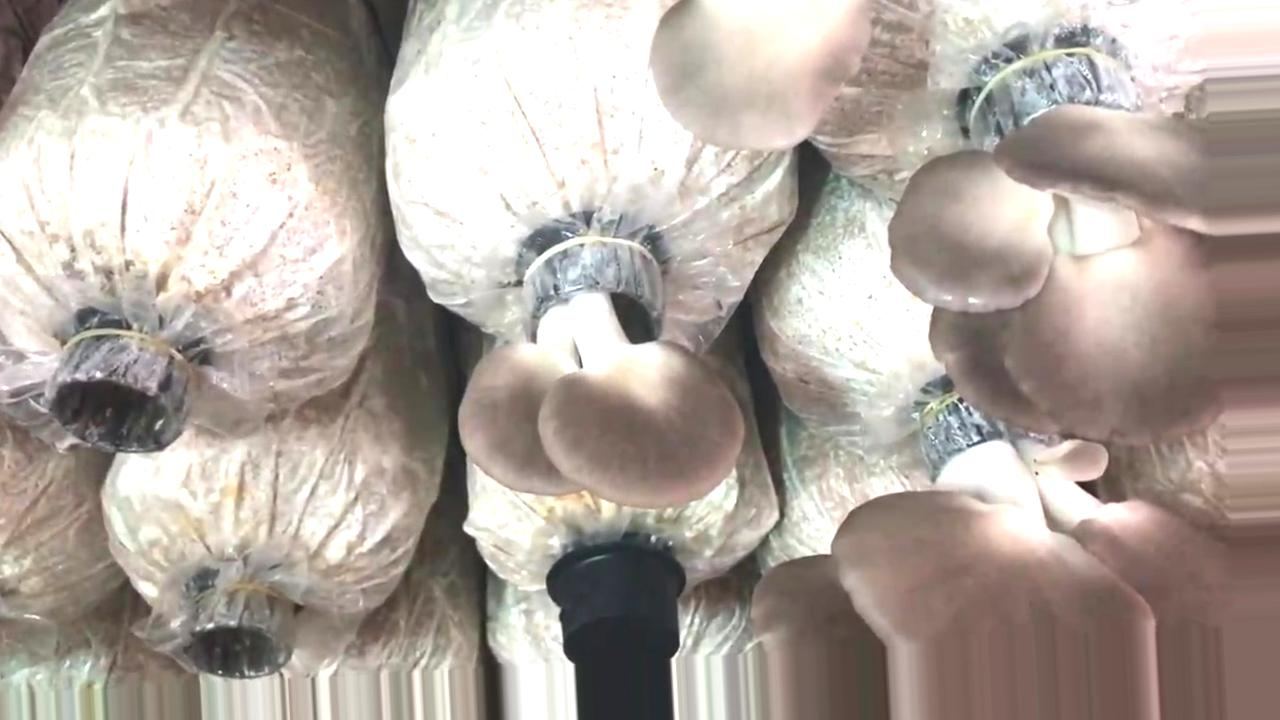nam: (753, 387, 1277, 720), (888, 45, 1280, 439), (461, 228, 746, 506), (652, 1, 868, 155)
